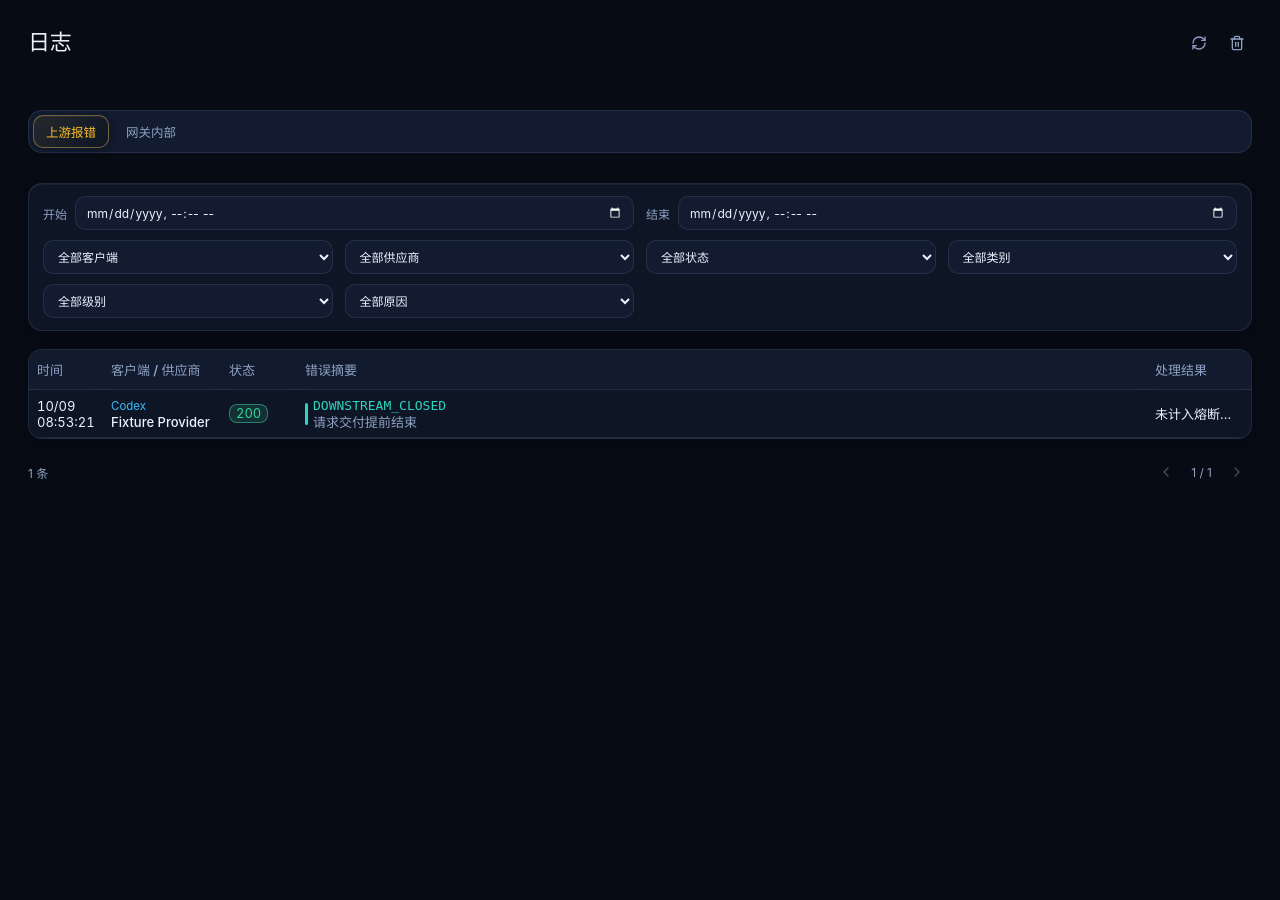
Test case: renders historical v0.25.10 downstream status records with HTTP and byte evidence
The image size is (1280, 900).
Click the button "DOWNSTREAM_CLOSED 请求交付提前结束": x=380, y=405 [305, 398, 1139, 430]
(page scrolled)
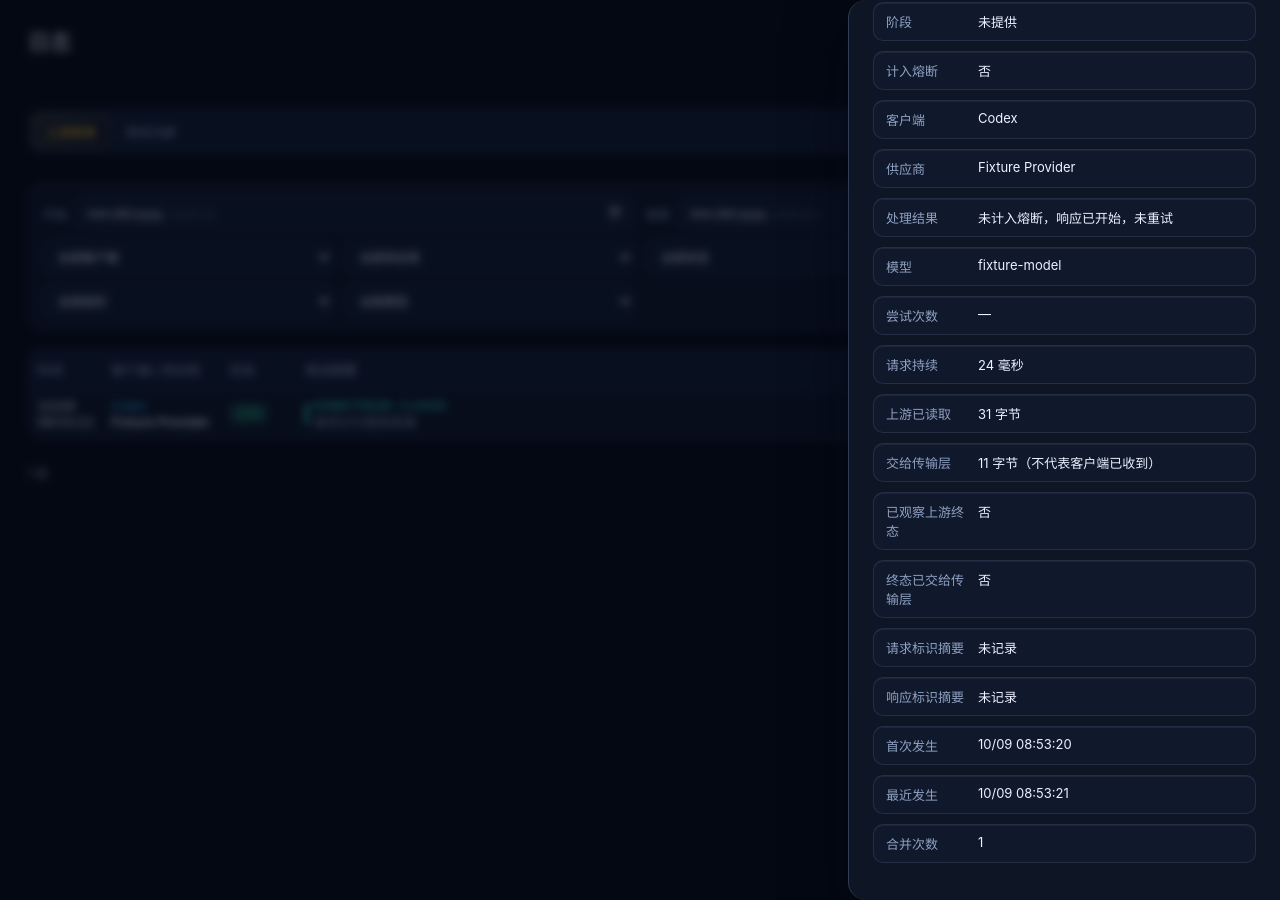
Expected: the text "31 字节" is shown, [978, 406, 1021, 422]
Expected: the text "11 字节（不代表客户端已收到）" is shown, [978, 455, 1161, 471]
Expected: the text "否" next to "已观察上游终态" is shown, [978, 504, 991, 520]
